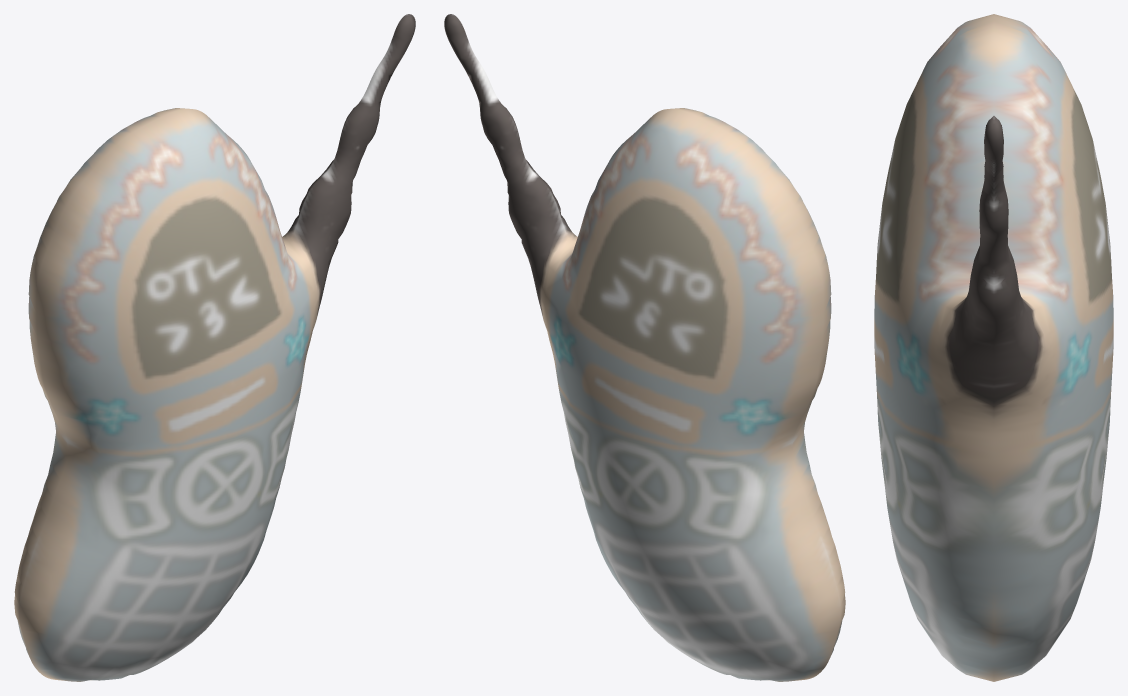
Rendered from phone.glb.
The picture shows the model from 3 angles, left to right: view 1: azimuth 30°, elevation 25°; view 2: azimuth 150°, elevation 25°; view 3: azimuth 270°, elevation 25°; orthographic projection. The views are drawn at different scales.
Parts seen in each view (by area): view 1: Mesh_0.006; view 2: Mesh_0.006; view 3: Mesh_0.006.
Part boxes in pixels (x1=…): Mesh_0.006: x1=14, y1=14, x2=415, y2=681; Mesh_0.006: x1=444, y1=14, x2=845, y2=681; Mesh_0.006: x1=874, y1=14, x2=1113, y2=681.
Size of the model in its own units: 136 by 193 by 57.88.
Materials: 1 (1 with a texture image).
